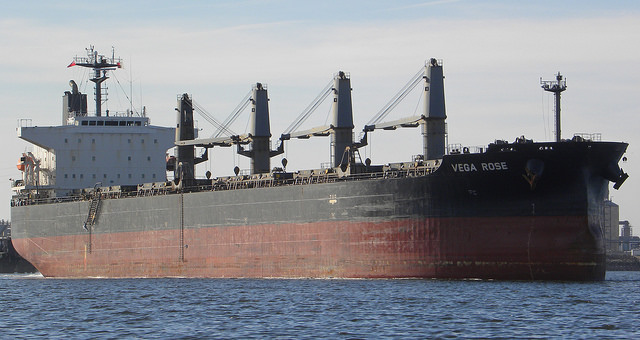bulk carrier: (10, 47, 629, 280)
